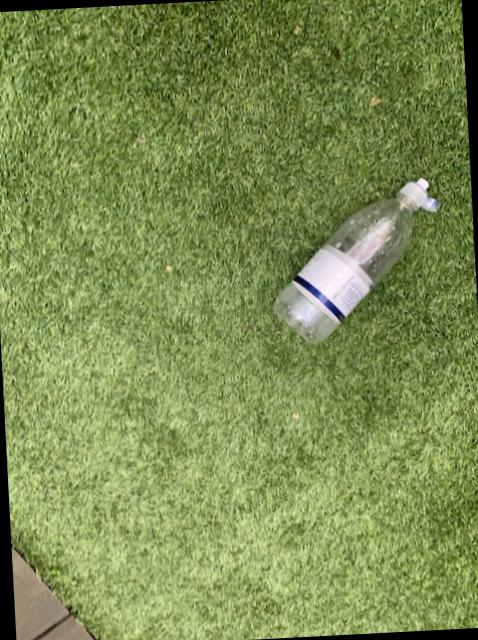plastic: (273, 180, 438, 344)
